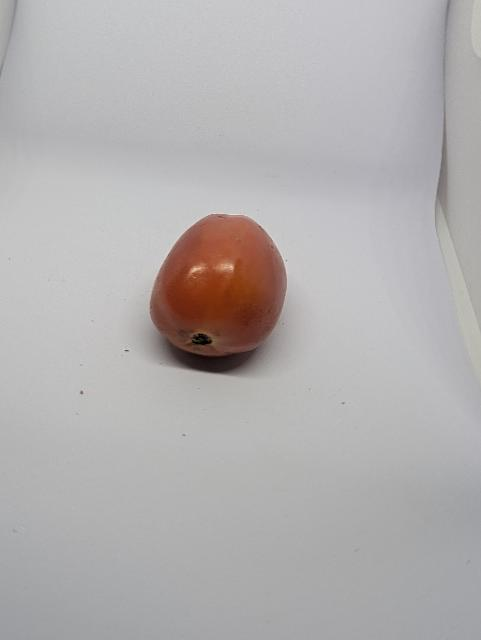red: (147, 210, 290, 369)
